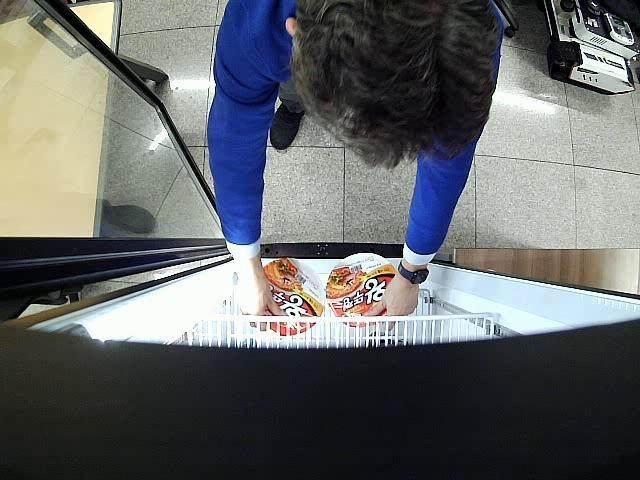10_wangTtukkeong: (326, 252, 396, 328), (262, 258, 324, 336)
